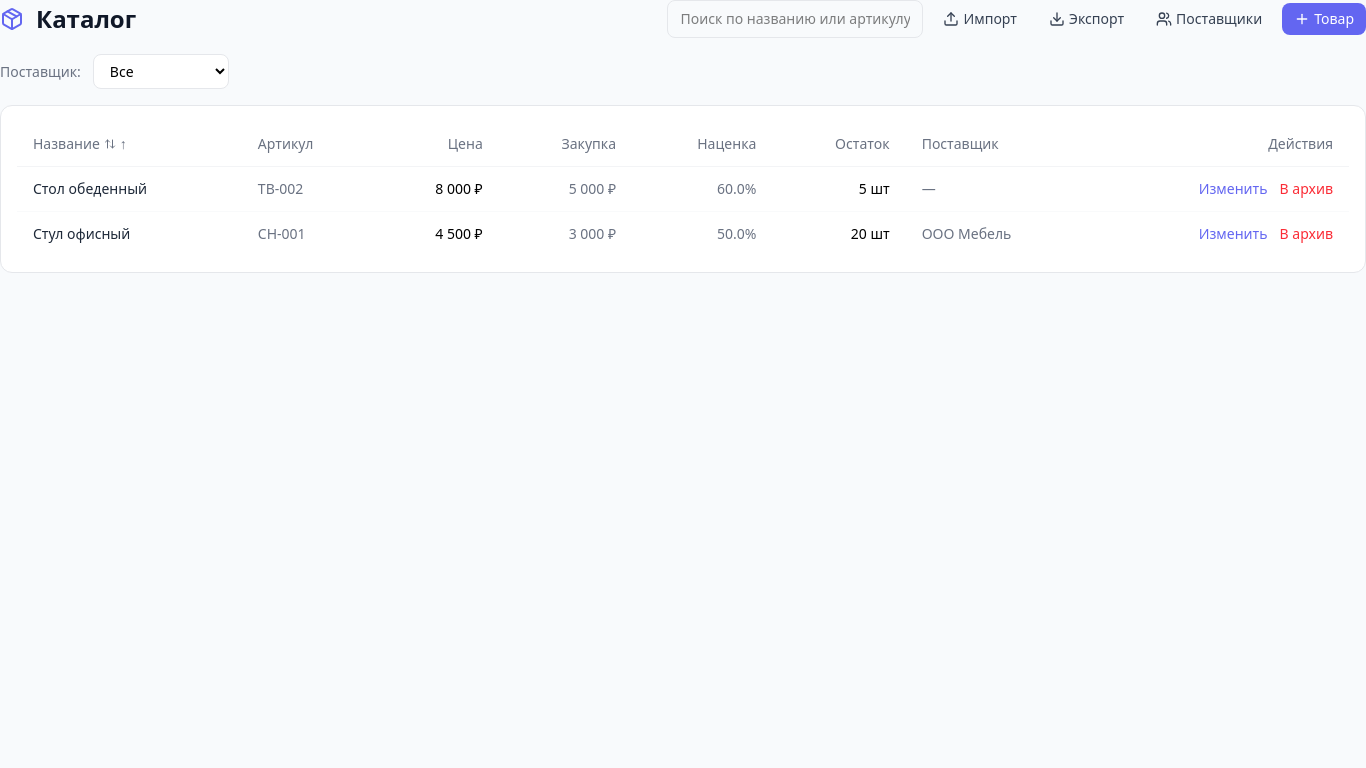
it: Products page › opens supplier manager modal
The image size is (1366, 768).
Check: the text "Стул офисный" is shown, box [17,212,242,256]
Click the button "Поставщики" at (1209, 19), box [1144,3,1274,35]
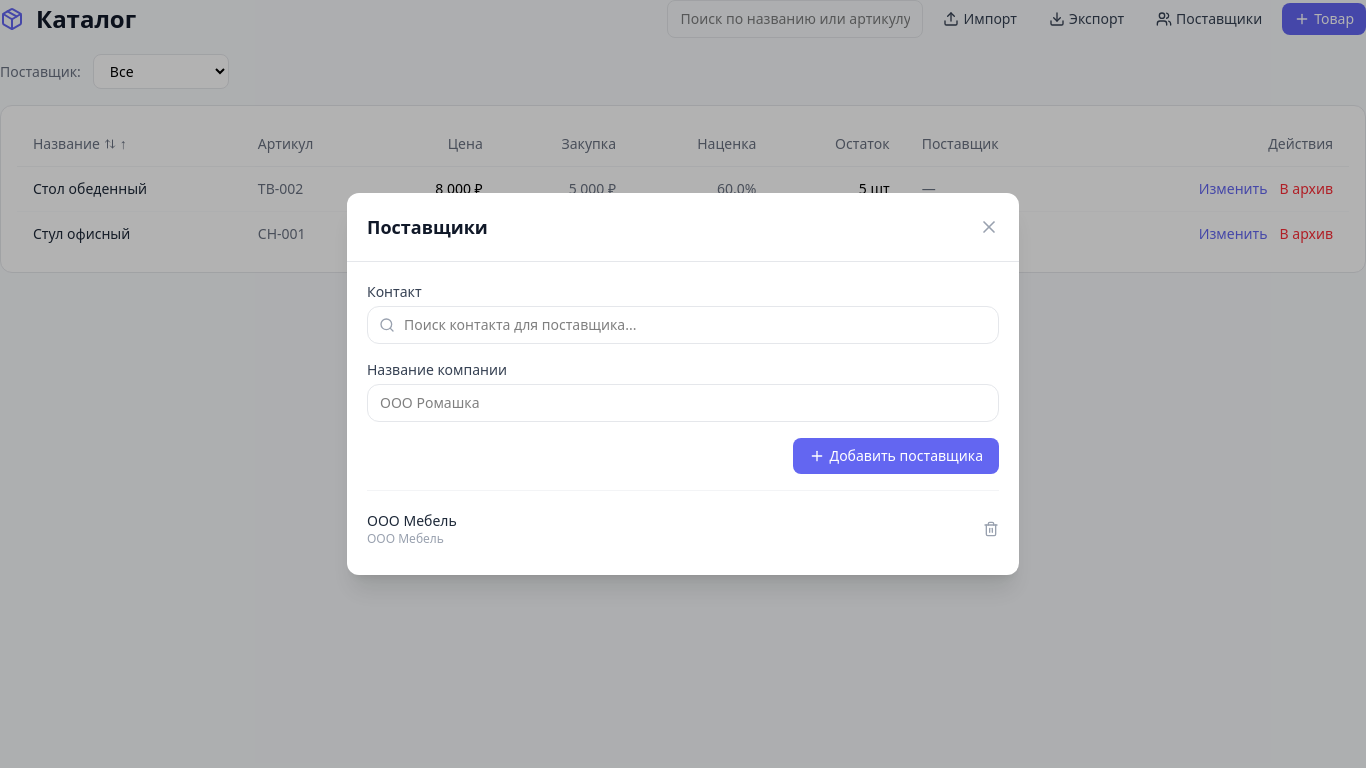
Check: the button "Добавить поставщика" is shown, box [794,438,999,474]
